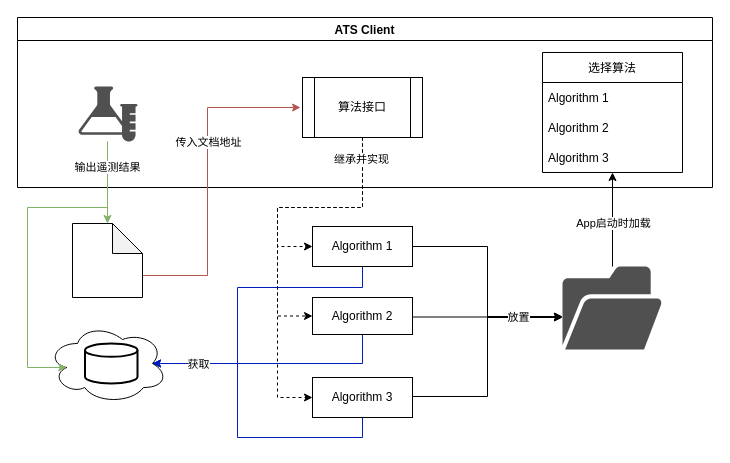
Some shapes in this 730 by 463 pixel diagram are drawn without their labels. The shapes that lost their labels are listed below. From the top down, each one's centre as x and y in pixels, then its label:
At point (107, 260): "统一格式的文档".
At point (612, 307): "本地目录".
At point (111, 363): "数据库".
